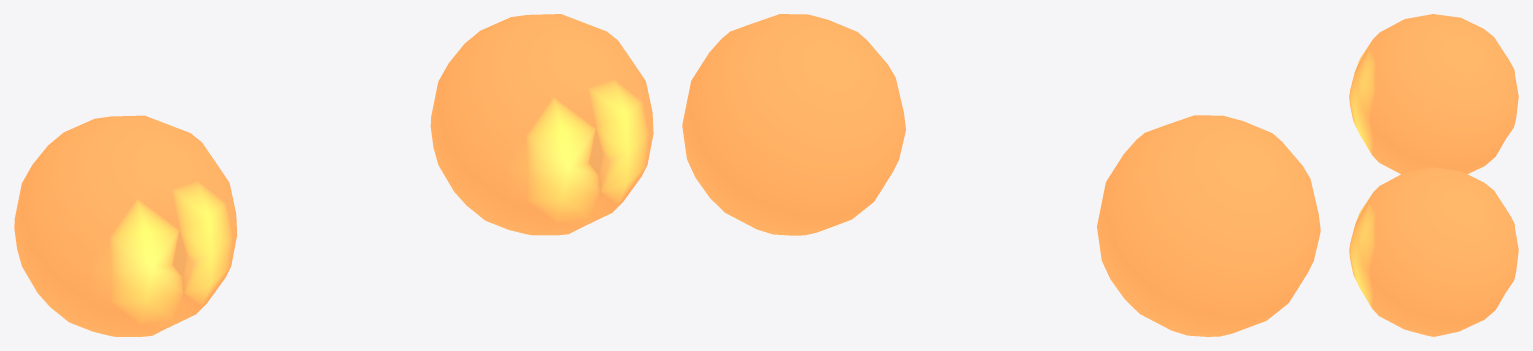
Rendered from eyes_glow_xlo.glb.
The picture shows the model from 3 angles, left to right: view 1: azimuth 30°, elevation 25°; view 2: azimuth 150°, elevation 25°; view 3: azimuth 270°, elevation 25°; orthographic projection. The views are drawn at different scales.
Parts seen in each view (by area): view 1: eyes_glow; view 2: eyes_glow; view 3: eyes_glow.
Part boxes in pixels (left/top/right/bottom): eyes_glow: left=14, top=14, right=653, bottom=336; eyes_glow: left=682, top=14, right=1320, bottom=336; eyes_glow: left=1349, top=14, right=1518, bottom=336.
Bounding box in the file's own units: 0.1995 × 0.0635 × 0.0635.
